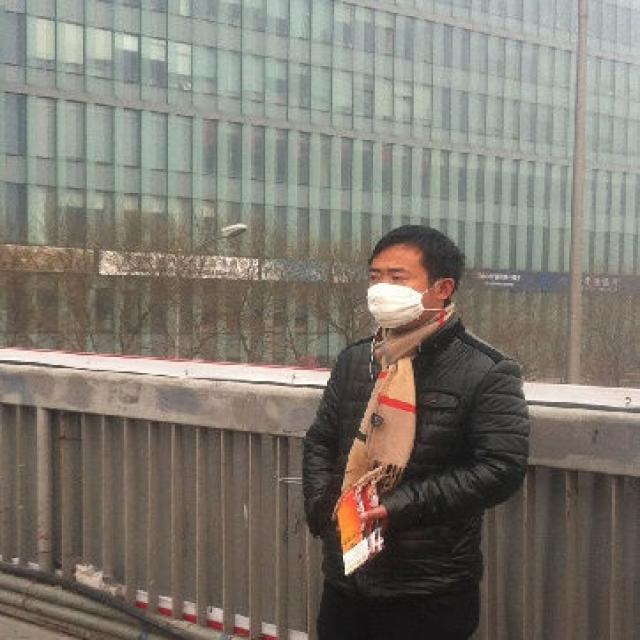mask: (365, 244, 431, 325)
